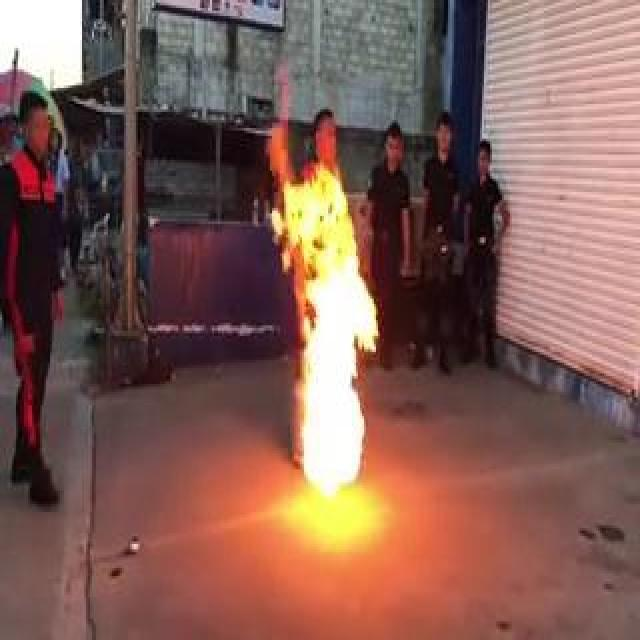Fire: (270, 160, 376, 504)
